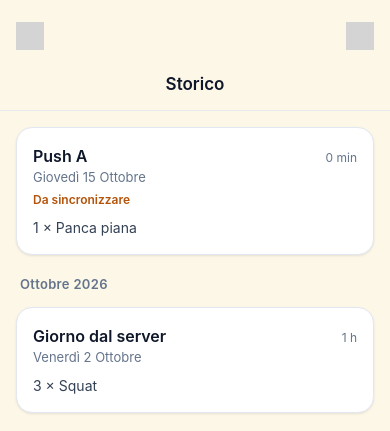
Test: Storico con gli allenamenti da sincronizzare › C49: il dettaglio locale apre senza menu di azioni e senza il riepilogo
The image size is (390, 431).
Click the link "Push A". click: coordinates (60, 156)
box: [16,126,374,255]
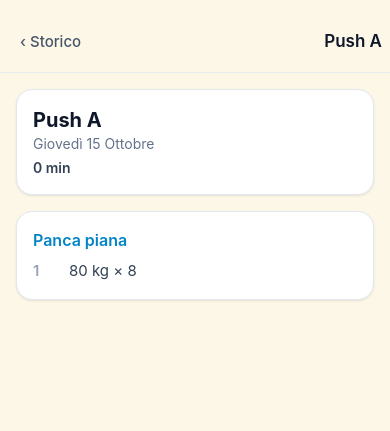
Result: the element "Panca piana" is shown at [16,211,374,300]
Result: the number of buttons is 1 at [8,20,93,64]
